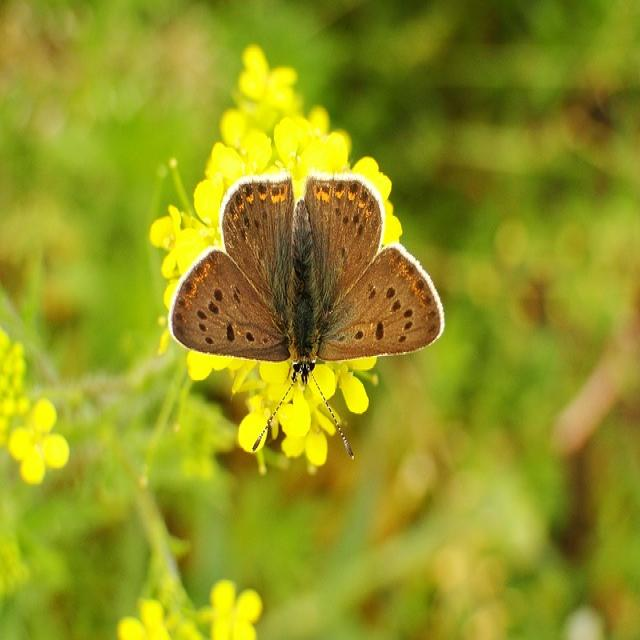butterfly: (168, 165, 445, 437)
